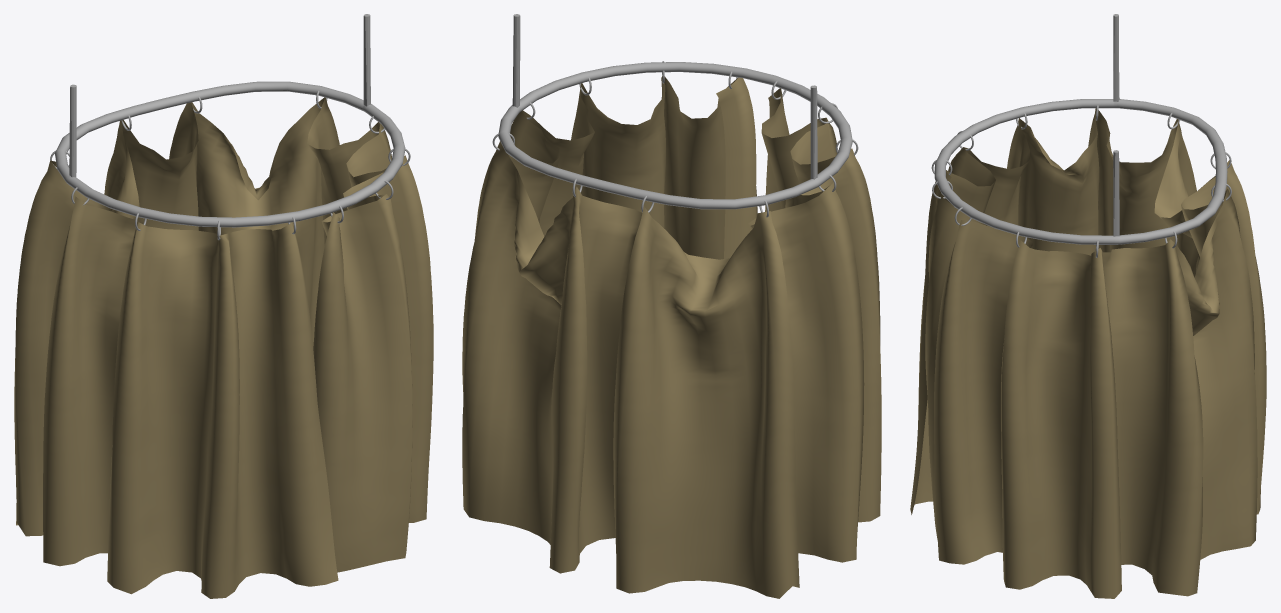
Rendered from curtain 2fbx SP.fbx.
3 views of the same model, side by side, from view 1: azimuth 30°, elevation 25°; view 2: azimuth 150°, elevation 25°; view 3: azimuth 270°, elevation 25° (orthographic). The views are drawn at different scales.
Visible parts, largest first — view 1: curtain2:extrudedSurface24, curtain2:extrudedSurface23; view 2: curtain2:extrudedSurface24, curtain2:extrudedSurface23; view 3: curtain2:extrudedSurface24, curtain2:extrudedSurface23.
Part boxes in pixels (<box>): curtain2:extrudedSurface24: <box>14,97,433,598</box>; curtain2:extrudedSurface23: <box>50,14,410,240</box>; curtain2:extrudedSurface24: <box>462,76,881,598</box>; curtain2:extrudedSurface23: <box>492,14,858,217</box>; curtain2:extrudedSurface24: <box>910,108,1266,598</box>; curtain2:extrudedSurface23: <box>931,14,1231,257</box>.
Bounding box in the file's own units: 24.03 × 30.02 × 21.73.
